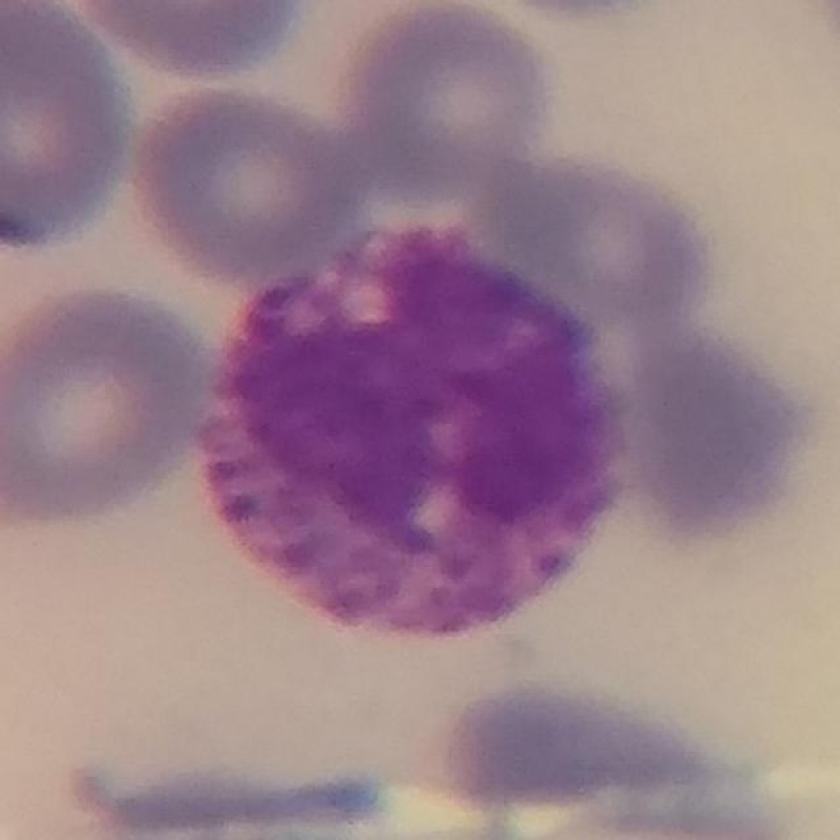basophil: (180, 206, 655, 659)
